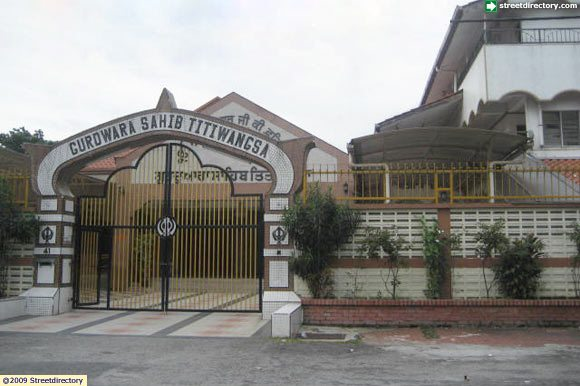Gurdwara: (36, 79, 359, 303)
